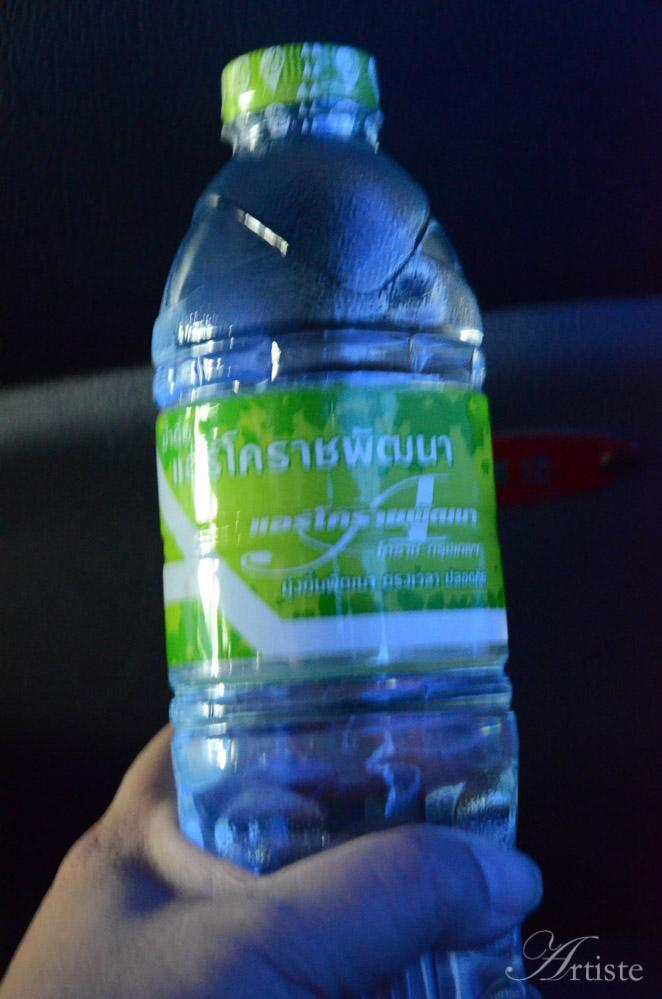bottle: (143, 24, 542, 996)
